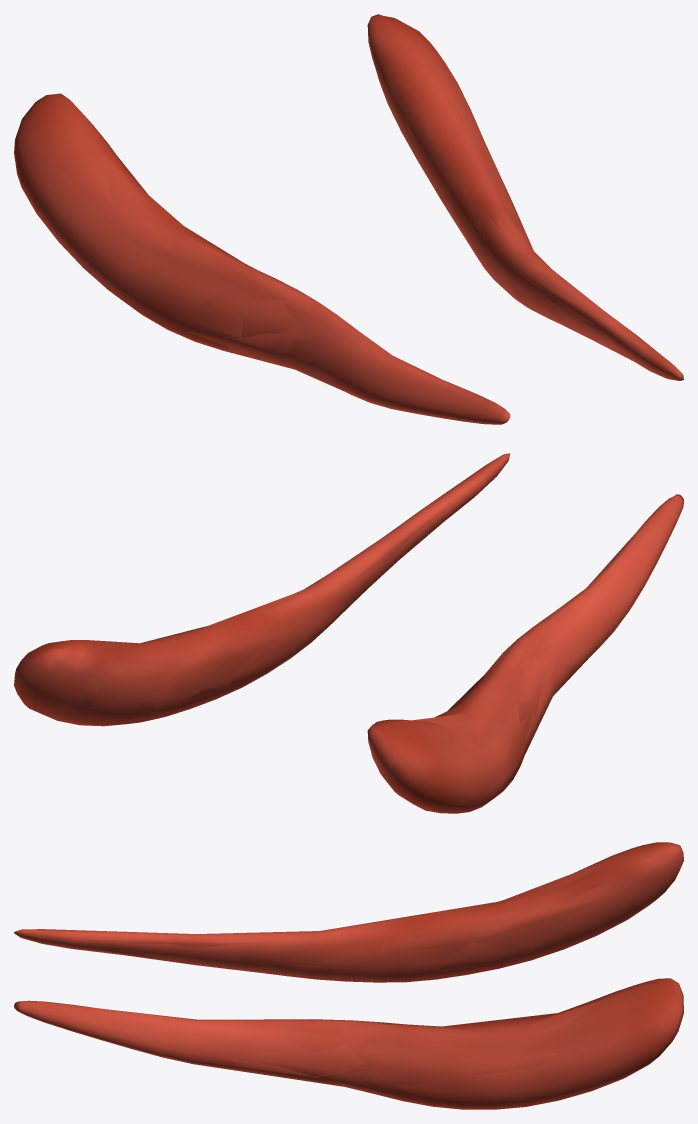
File: Longissimus Cervicis.fbx
The picture shows the model from 3 angles, top to bottom: view 1: azimuth 30°, elevation 25°; view 2: azimuth 150°, elevation 25°; view 3: azimuth 270°, elevation 25°; orthographic projection. The views are drawn at different scales.
Parts seen in each view (by area): view 1: Longissimus Cervicis, Longissimus Cervicis low; view 2: Longissimus Cervicis, Longissimus Cervicis low; view 3: Longissimus Cervicis, Longissimus Cervicis low.
Part boxes in pixels (bbox=[...]): Longissimus Cervicis: bbox=[14, 14, 683, 424]; Longissimus Cervicis low: bbox=[21, 18, 682, 403]; Longissimus Cervicis: bbox=[14, 453, 683, 813]; Longissimus Cervicis low: bbox=[18, 467, 666, 810]; Longissimus Cervicis: bbox=[14, 842, 683, 1109]; Longissimus Cervicis low: bbox=[14, 844, 682, 1101].
Size of the model in its own units: 10.74 by 3.6 by 16.97.
